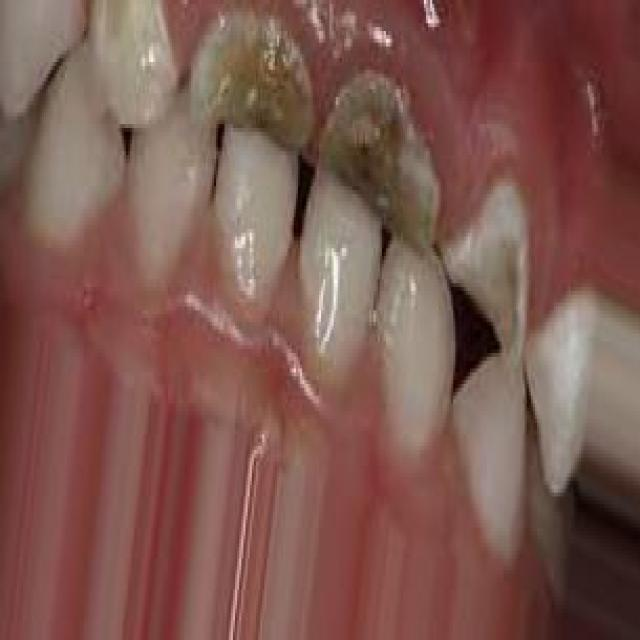caries: (321, 65, 438, 256), (189, 7, 317, 162), (445, 176, 533, 375)
